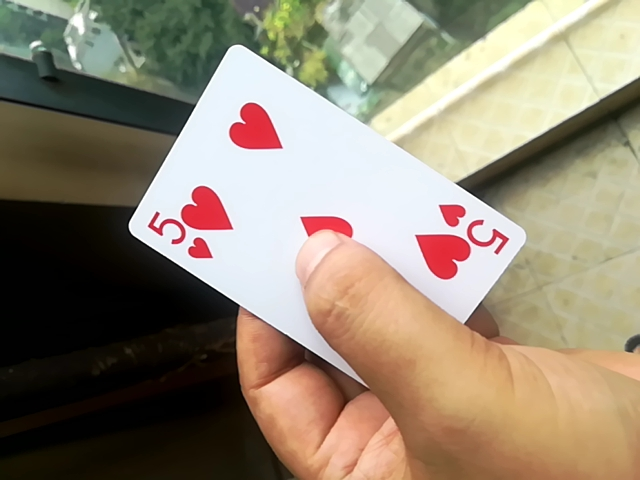hx 5: (124, 52, 533, 367)
